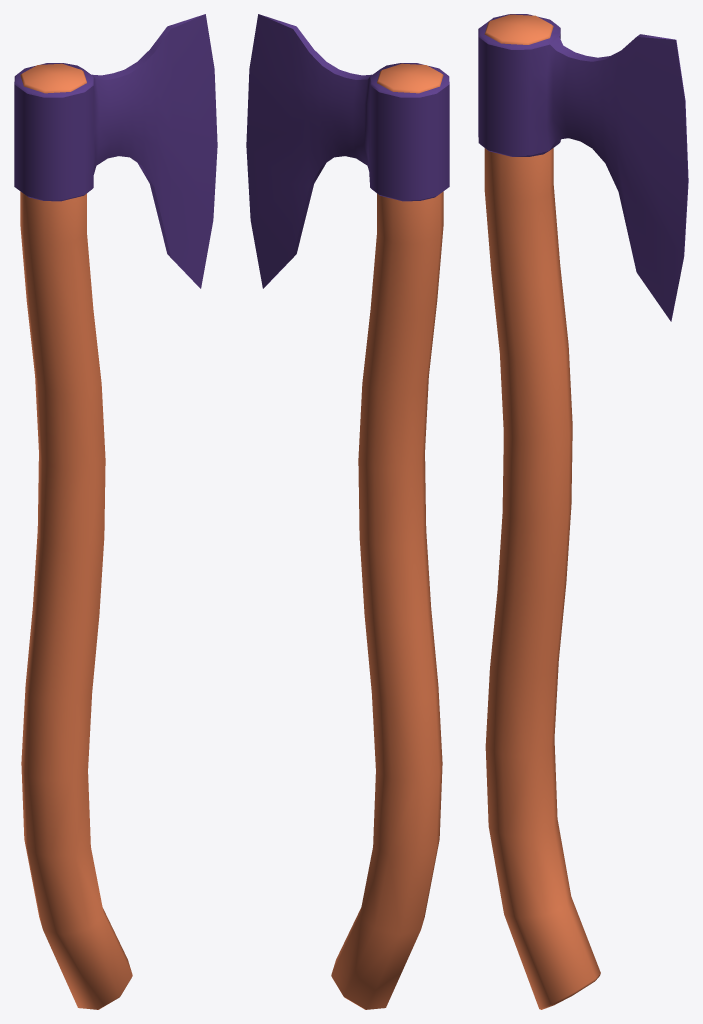
File: Cryonite_Axe.fbx
3 renders of one model, left to right at view 1: azimuth 30°, elevation 25°; view 2: azimuth 150°, elevation 25°; view 3: azimuth 330°, elevation 25°, orthographic. The views are drawn at different scales.
Parts seen in each view (by area): view 1: Cryonite_Axe; view 2: Cryonite_Axe; view 3: Cryonite_Axe.
Part boxes in pixels (x1,y1,x2,y2): Cryonite_Axe: (14, 14, 217, 1009); Cryonite_Axe: (246, 14, 449, 1009); Cryonite_Axe: (478, 14, 688, 1009).
Size of the model in its own units: 0.1066 by 0.4994 by 0.0363.
